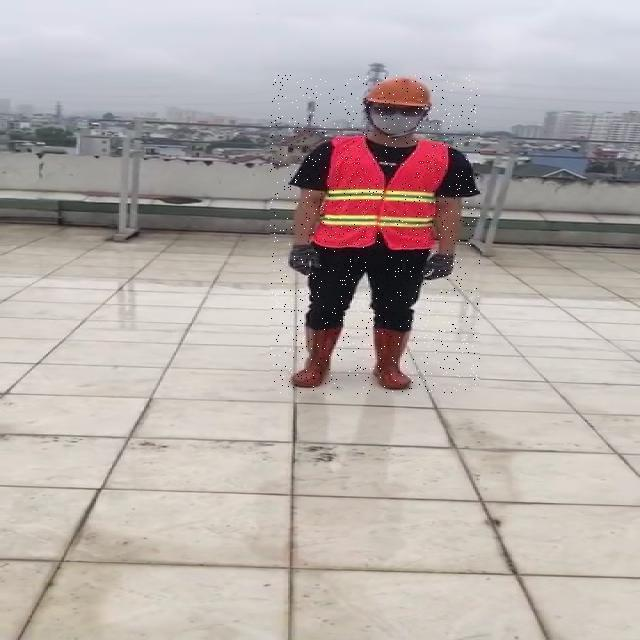gloves: (415, 251, 455, 292), (285, 243, 321, 279)
goggles: (369, 105, 429, 116)
helmet: (362, 76, 438, 109)
safety_vest: (314, 137, 452, 249)
